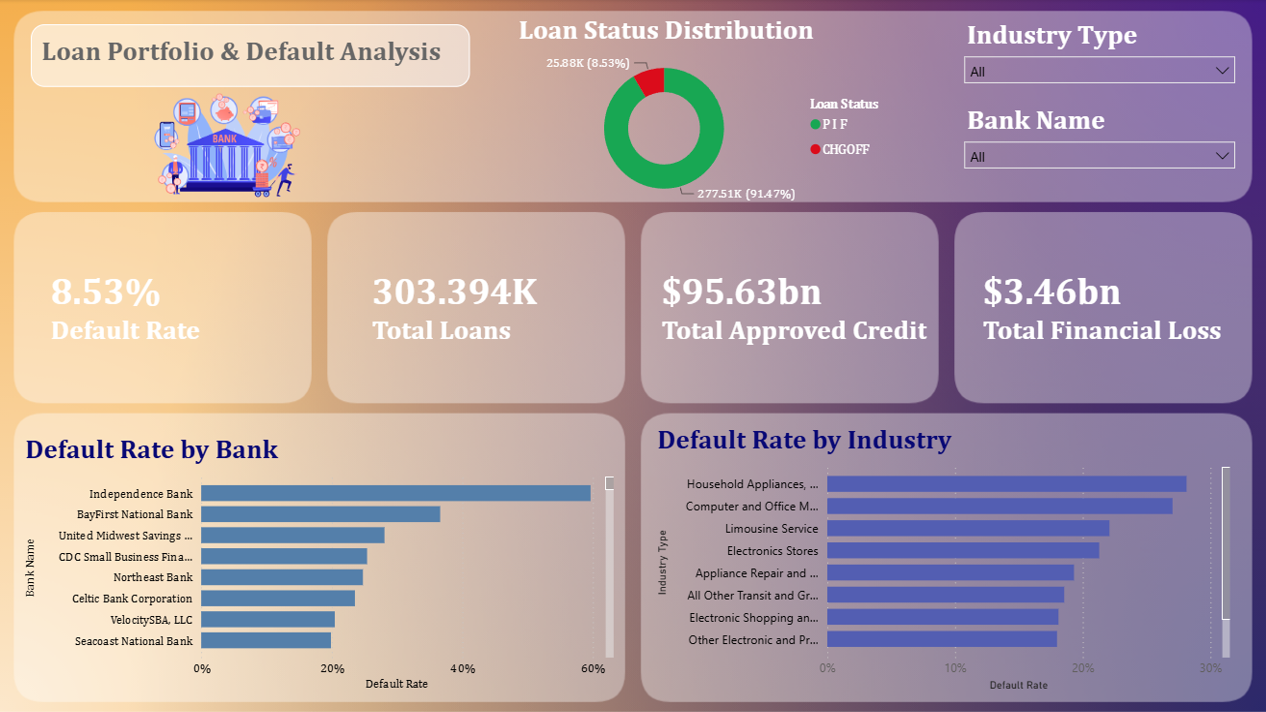

The page's visual inventory and layout, read from the dashboard file:
{"tool":"powerbi","page":{"name":"Page 1","canvas":[1280,720],"ordinal":0},"visuals":[{"type":"cardVisual","fields":{"Data":["CountNonNull(vw_clean_loan_data.Loan_Status)"]},"box":[347.2,202.3,344.3,214],"z":0},{"type":"cardVisual","fields":{"Data":["Sum(vw_clean_loan_data.Charge_Off_Amount)"]},"box":[964.9,159.5,300.5,299.6],"z":1000},{"type":"cardVisual","fields":{"Data":["Sum(vw_clean_loan_data.Approved_Amount)"]},"box":[640,234.4,338.5,149.8],"z":2000},{"type":"cardVisual","fields":{"Data":["vw_clean_loan_data.Default Rate %"]},"box":[22.4,208.1,300.5,202.3],"z":3000},{"type":"clusteredBarChart","title":"Default Rate by Industry","fields":{"Category":["vw_clean_loan_data.Industry_Description"],"Y":["vw_clean_loan_data.Default Rate %"]},"box":[659.5,426,589.4,273.3],"z":4000},{"type":"donutChart","title":"Loan Status Distribution","fields":{"Category":["vw_clean_loan_data.Loan_Status"],"Y":["CountNonNull(vw_clean_loan_data.Loan_Status)"]},"box":[519.4,14.6,390,199.4],"z":5000},{"type":"slicer","fields":{"Values":["vw_clean_loan_data.Industry_Description"]},"box":[964.9,14.6,293.7,85.6],"z":6000},{"type":"clusteredBarChart","title":"Default Rate by Bank","fields":{"Y":["vw_clean_loan_data.Default Rate %"],"Category":["vw_clean_loan_data.Bank_Name"]},"box":[20.4,435.7,605,263.6],"z":7000},{"type":"textbox","box":[31.1,25.3,444.5,63.2],"z":8000},{"type":"slicer","fields":{"Values":["vw_clean_loan_data.Bank_Name"]},"box":[964.9,100.2,293.7,85.6],"z":8001},{"type":"image","box":[96.4,91.6,267.8,110.7],"z":8002}]}

Visuals, with their boxes in screenshot pixels (x1, y1, x2, y2), scaled from the page's 1280x720 canvas onto the 1266x712 screenshot:
cardVisual - CountNonNull(vw_clean_loan_data.Loan_Status): detection(343, 200, 684, 412)
cardVisual - Sum(vw_clean_loan_data.Charge_Off_Amount): detection(954, 158, 1252, 454)
cardVisual - Sum(vw_clean_loan_data.Approved_Amount): detection(633, 232, 968, 380)
cardVisual - vw_clean_loan_data.Default Rate %: detection(22, 206, 319, 406)
"Default Rate by Industry" clusteredBarChart: detection(652, 421, 1235, 692)
"Loan Status Distribution" donutChart: detection(514, 14, 899, 212)
slicer - vw_clean_loan_data.Industry_Description: detection(954, 14, 1245, 99)
"Default Rate by Bank" clusteredBarChart: detection(20, 431, 619, 692)
textbox: detection(31, 25, 470, 88)
slicer - vw_clean_loan_data.Bank_Name: detection(954, 99, 1245, 184)
image: detection(95, 91, 360, 200)
